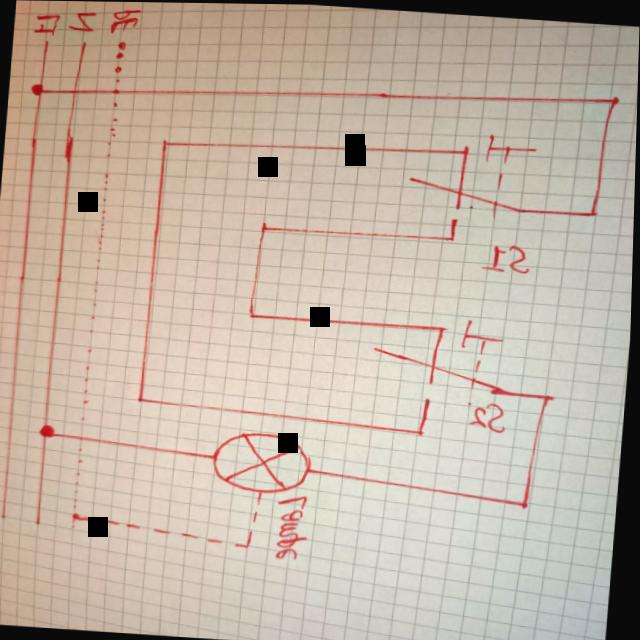crossover: (77, 429, 91, 442), (111, 83, 124, 96), (70, 85, 81, 95)
junction: (40, 422, 59, 437), (30, 82, 45, 95), (542, 389, 557, 401), (518, 496, 534, 507), (459, 142, 472, 154), (608, 92, 622, 103), (437, 321, 450, 332), (415, 425, 428, 435), (588, 206, 600, 215), (73, 510, 83, 520), (245, 540, 256, 549), (448, 231, 458, 240), (249, 309, 259, 318), (260, 221, 270, 230), (137, 395, 147, 402), (162, 138, 170, 144)
switch: (404, 124, 539, 230), (370, 311, 509, 413)
terminal: (114, 37, 130, 50), (39, 35, 55, 47), (76, 37, 93, 48), (36, 518, 44, 525), (2, 513, 10, 519)
text: (275, 492, 314, 562), (482, 238, 535, 275), (469, 396, 511, 431), (107, 5, 142, 35), (65, 7, 101, 33), (32, 9, 61, 35)
